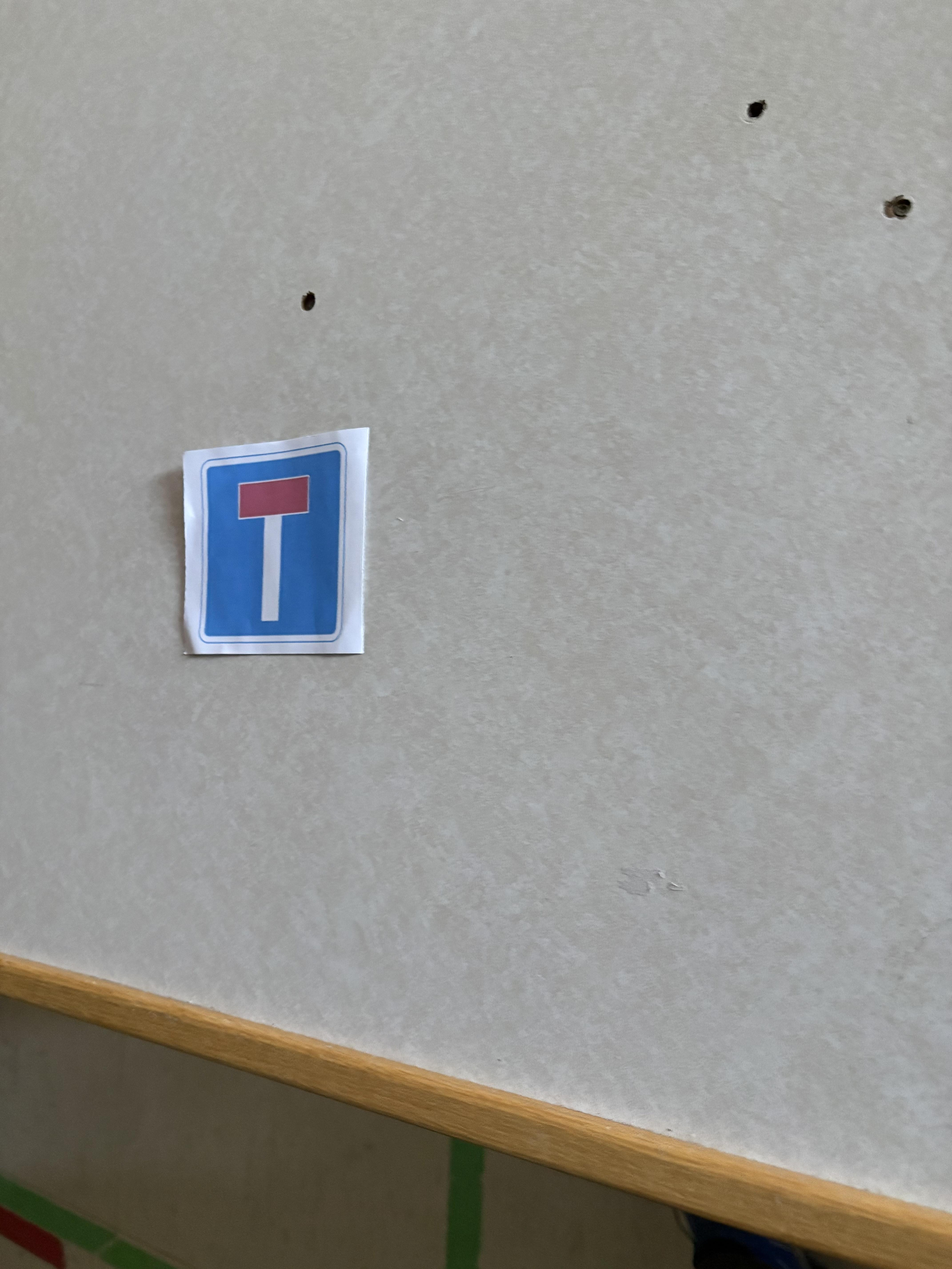Dead End: (183, 427, 370, 660)
